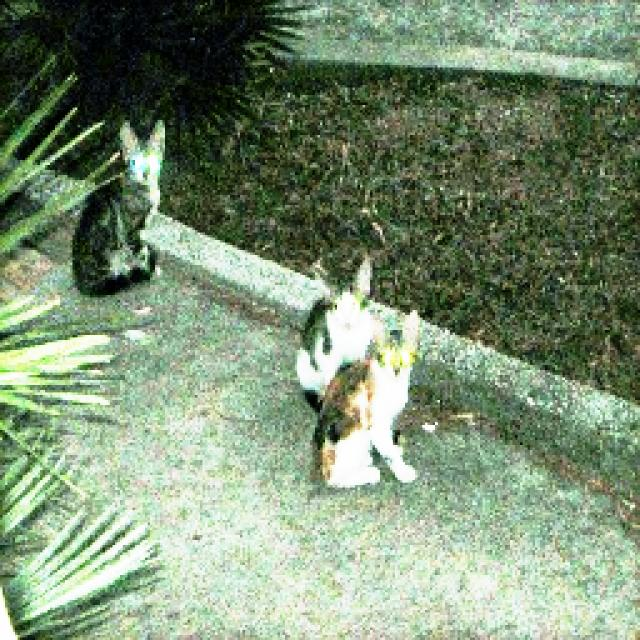cat: (272, 303, 442, 507), (46, 118, 190, 294), (276, 238, 392, 394)
